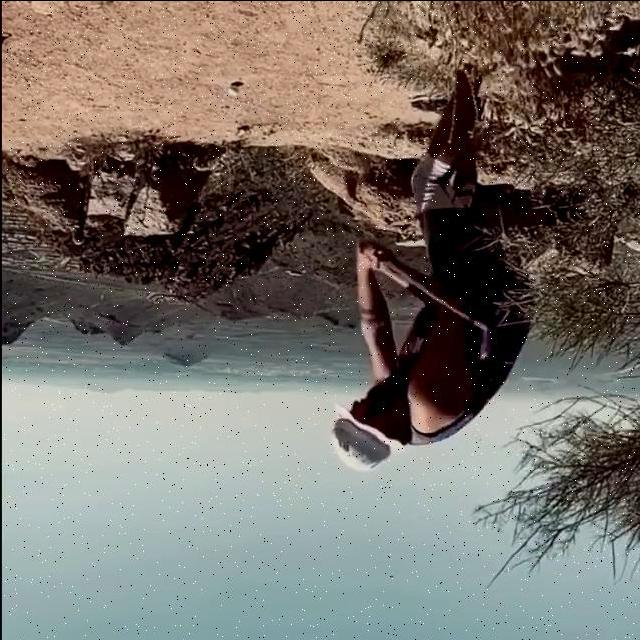golf ball: (228, 86, 237, 93)
golf club-handle: (380, 256, 491, 358)
golf club-head: (478, 324, 491, 357)
